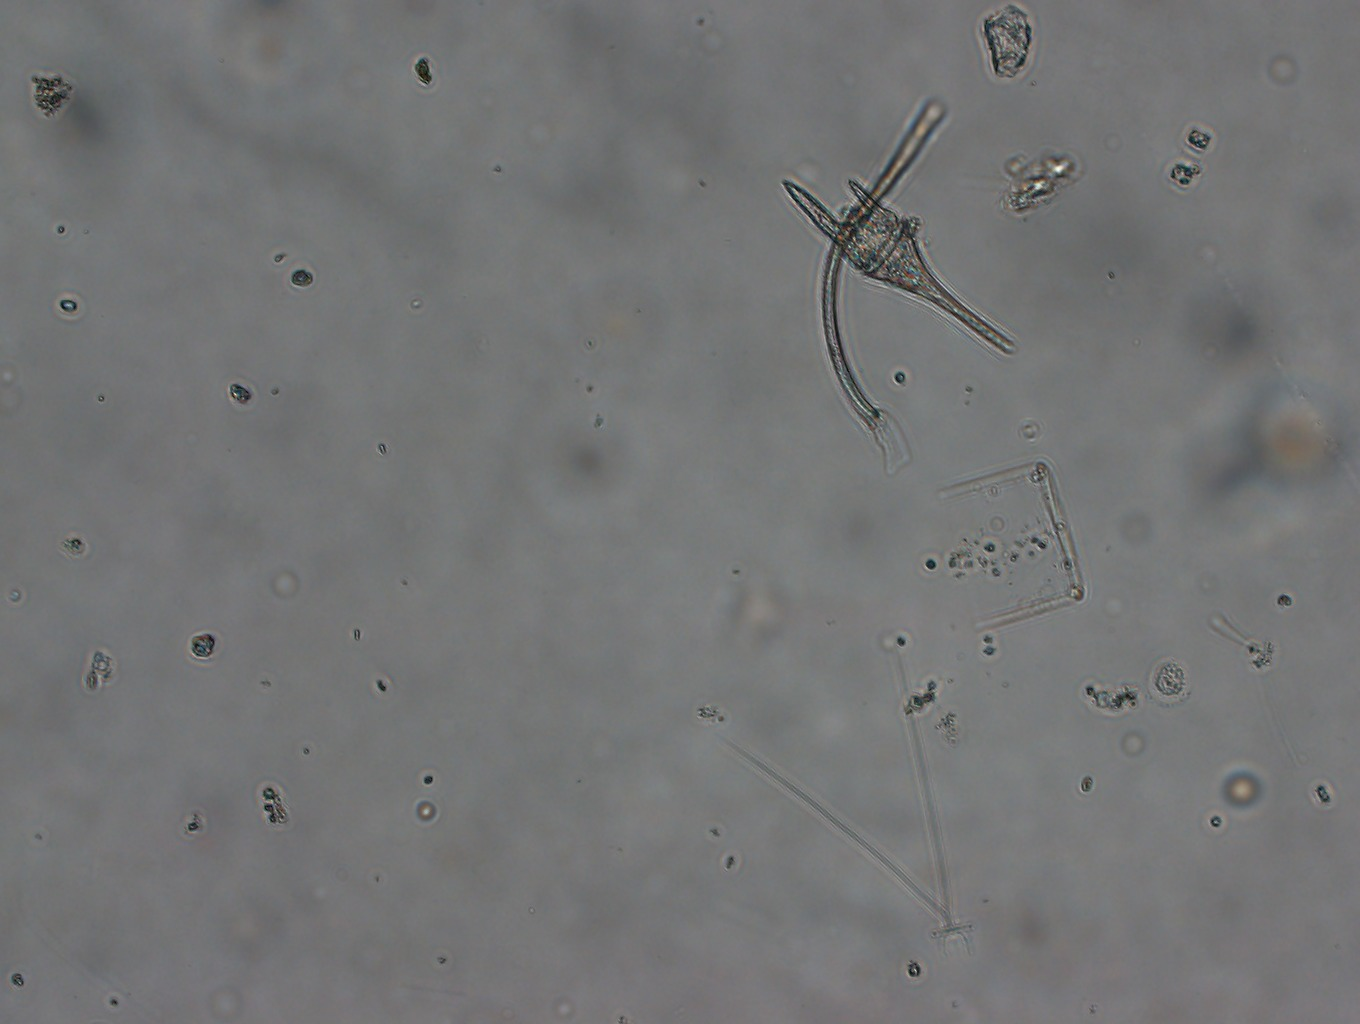ceratium furca: (774, 163, 1018, 357)
